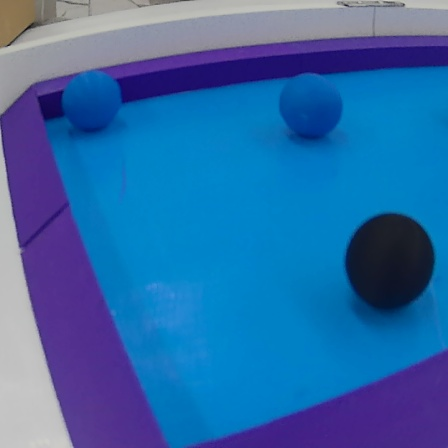black: (344, 212, 437, 316)
blue: (59, 68, 128, 135), (277, 71, 344, 139)
blue_aim: (5, 32, 448, 448)
